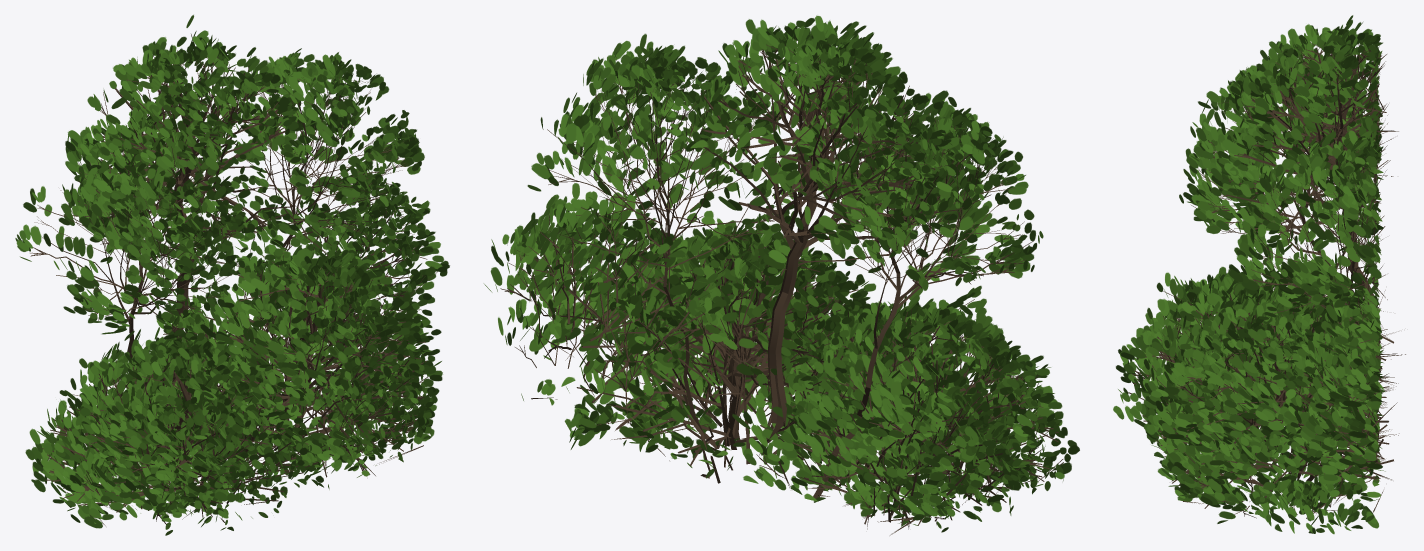
The picture shows the model from 3 angles, left to right: view 1: azimuth 30°, elevation 25°; view 2: azimuth 150°, elevation 25°; view 3: azimuth 270°, elevation 25°; orthographic projection. The views are drawn at different scales.
Parts seen in each view (by area): view 1: oak 01.001_trunk_Mat.001_0.436; view 2: oak 01.001_trunk_Mat.001_0.436; view 3: oak 01.001_trunk_Mat.001_0.436.
Boxes of the visible parts, x1,y1,x2,y2 form: oak 01.001_trunk_Mat.001_0.436: (15, 15, 449, 535); oak 01.001_trunk_Mat.001_0.436: (483, 15, 1079, 535); oak 01.001_trunk_Mat.001_0.436: (1113, 15, 1405, 534).
Size of the model in its own units: 5.47 by 5.05 by 3.16.
2 materials, 1 textured.
